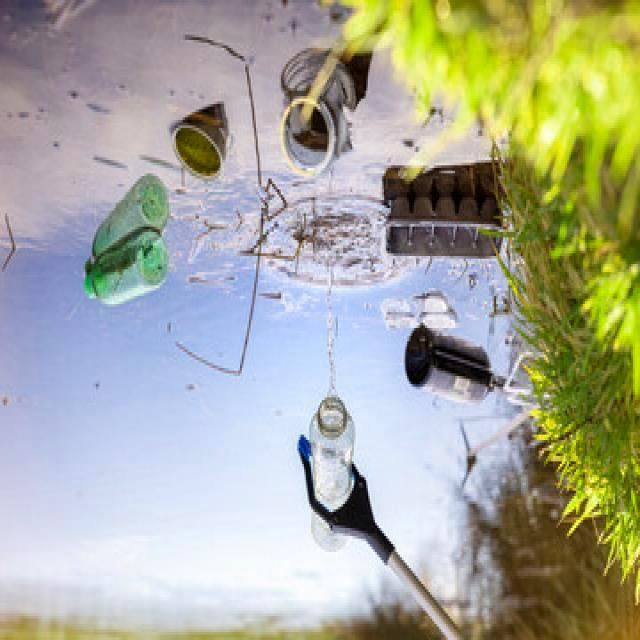Glass: (402, 336, 517, 412), (81, 233, 165, 308)
Plastic: (305, 391, 357, 559), (277, 62, 347, 174), (171, 107, 232, 186)
Trash: (378, 190, 507, 259), (385, 291, 462, 332)
